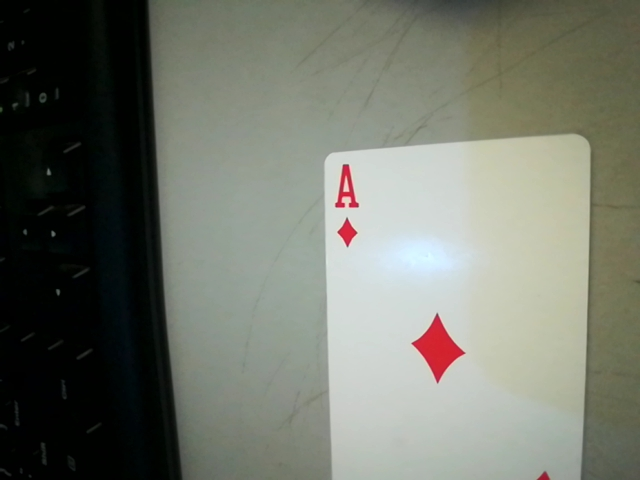fk a: (318, 159, 370, 254)
